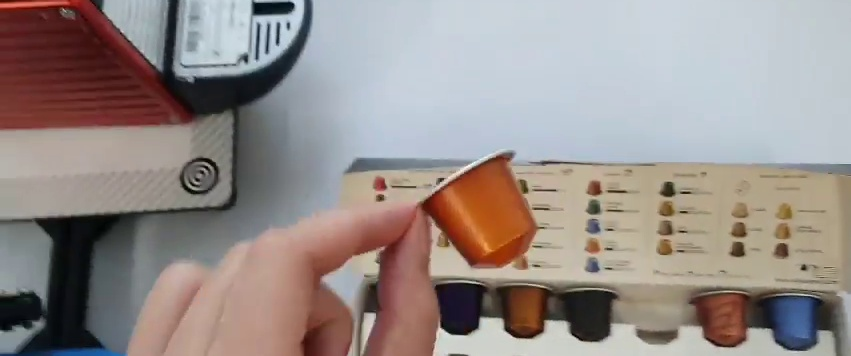capsule_5: (414, 145, 537, 273)
